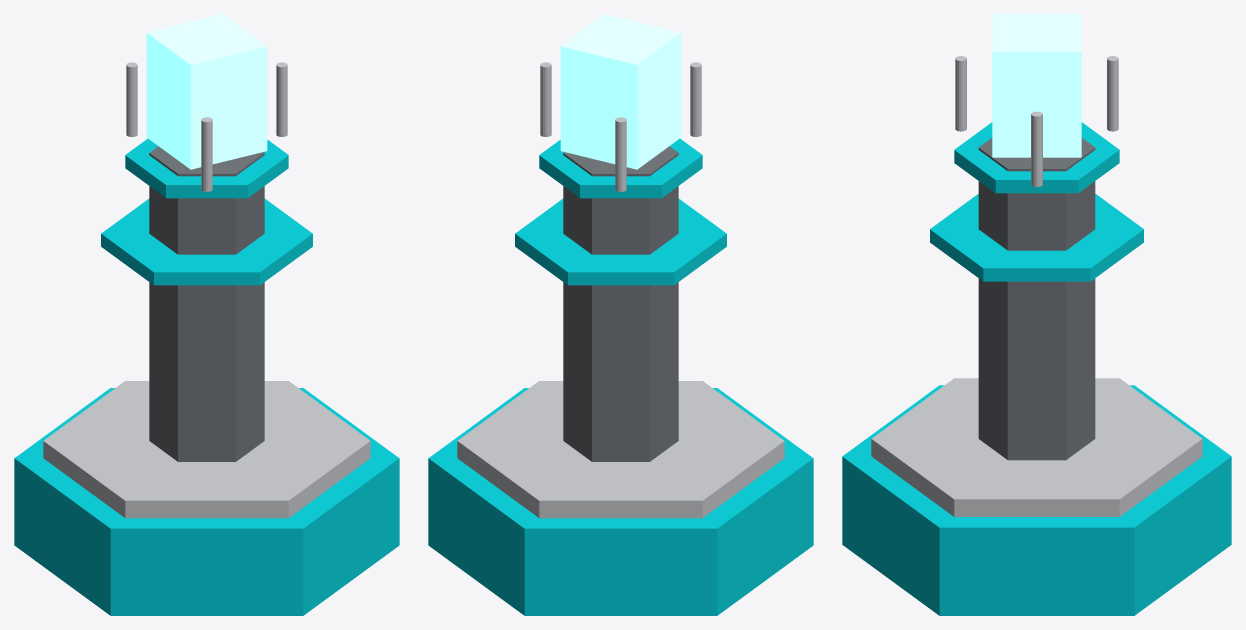
The model's file is allies_prism_tower_1791454597203.glb.
The picture shows the model from 3 angles, left to right: view 1: azimuth 30°, elevation 25°; view 2: azimuth 150°, elevation 25°; view 3: azimuth 270°, elevation 25°; orthographic projection.
Parts seen in each view (by area): view 1: Allies_Prism_tower; view 2: Allies_Prism_tower; view 3: Allies_Prism_tower.
Boxes of the visible parts, bbox=[...] form: Allies_Prism_tower: bbox=[14, 14, 399, 615]; Allies_Prism_tower: bbox=[428, 14, 813, 615]; Allies_Prism_tower: bbox=[842, 14, 1231, 615].
Size of the model in its own units: 3.46 by 5.8 by 4.
